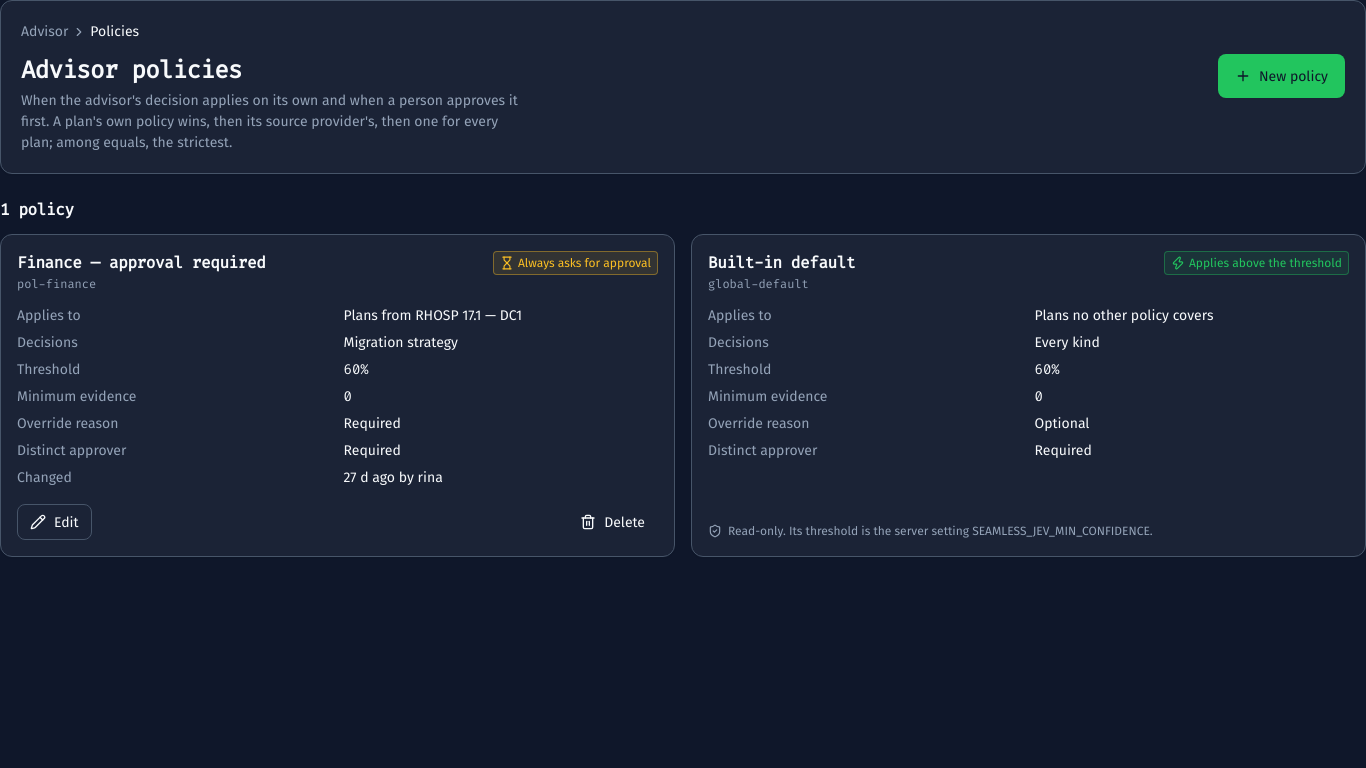
Test: Advisor policies page (SDD §14.6, §16, ADV-04) › names the field of each number it refuses: the summary lists them together
The image size is (1366, 768).
Expected: the heading "1 policy" is shown, [0,199,74,220]
Click the button "New policy": (1281, 76) [1218,54,1345,98]
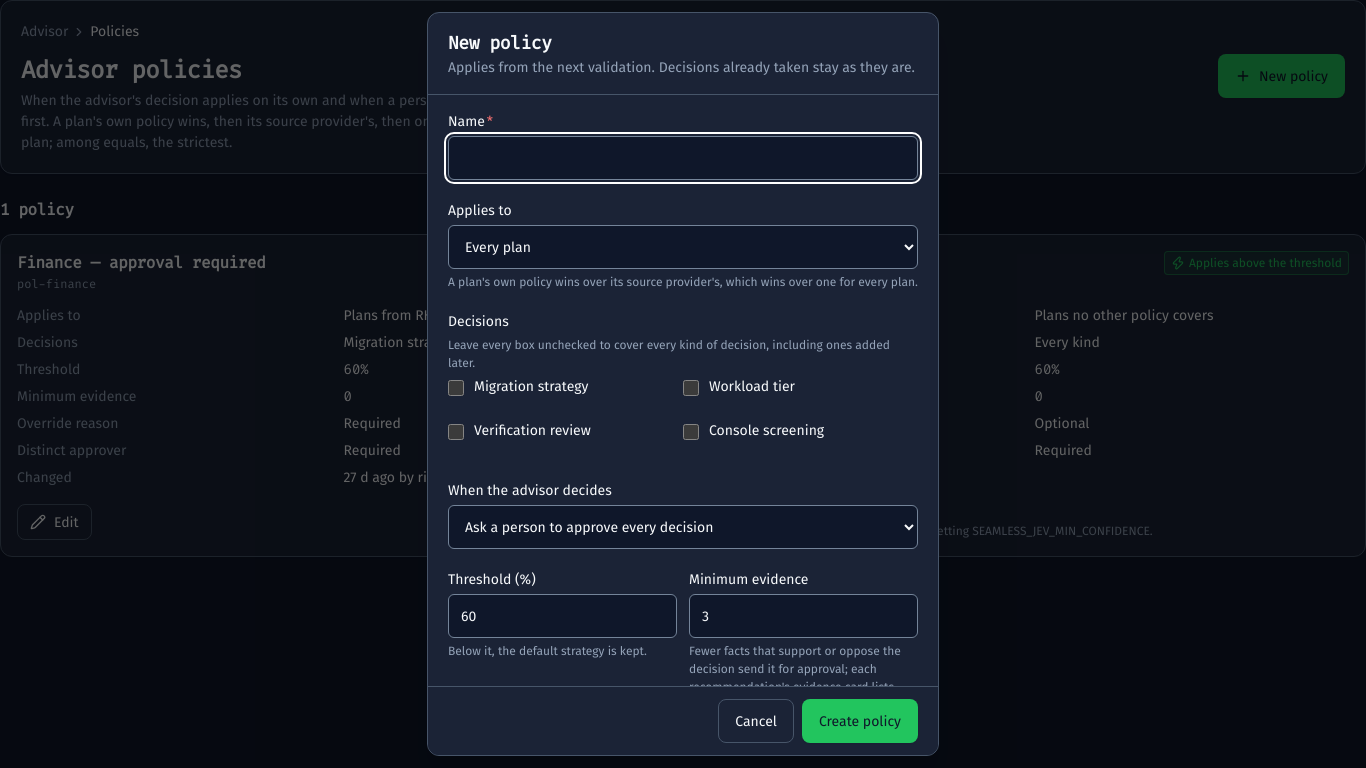
In the field labelled "Name*": (683, 158) [448,136,918,180], type "Numbers"
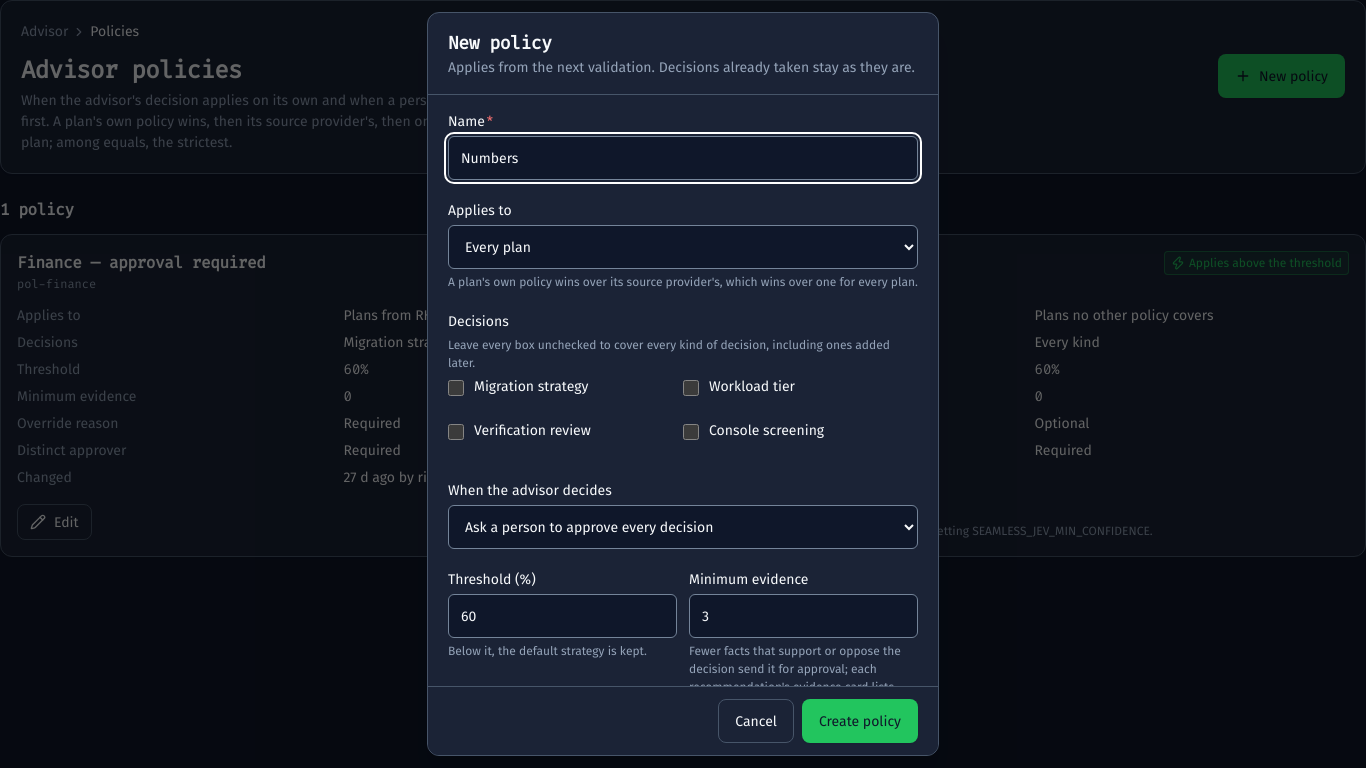
Replace the text in the number field labelled "Threshold (%)" with "101": (562, 616) [448,594,677,638]
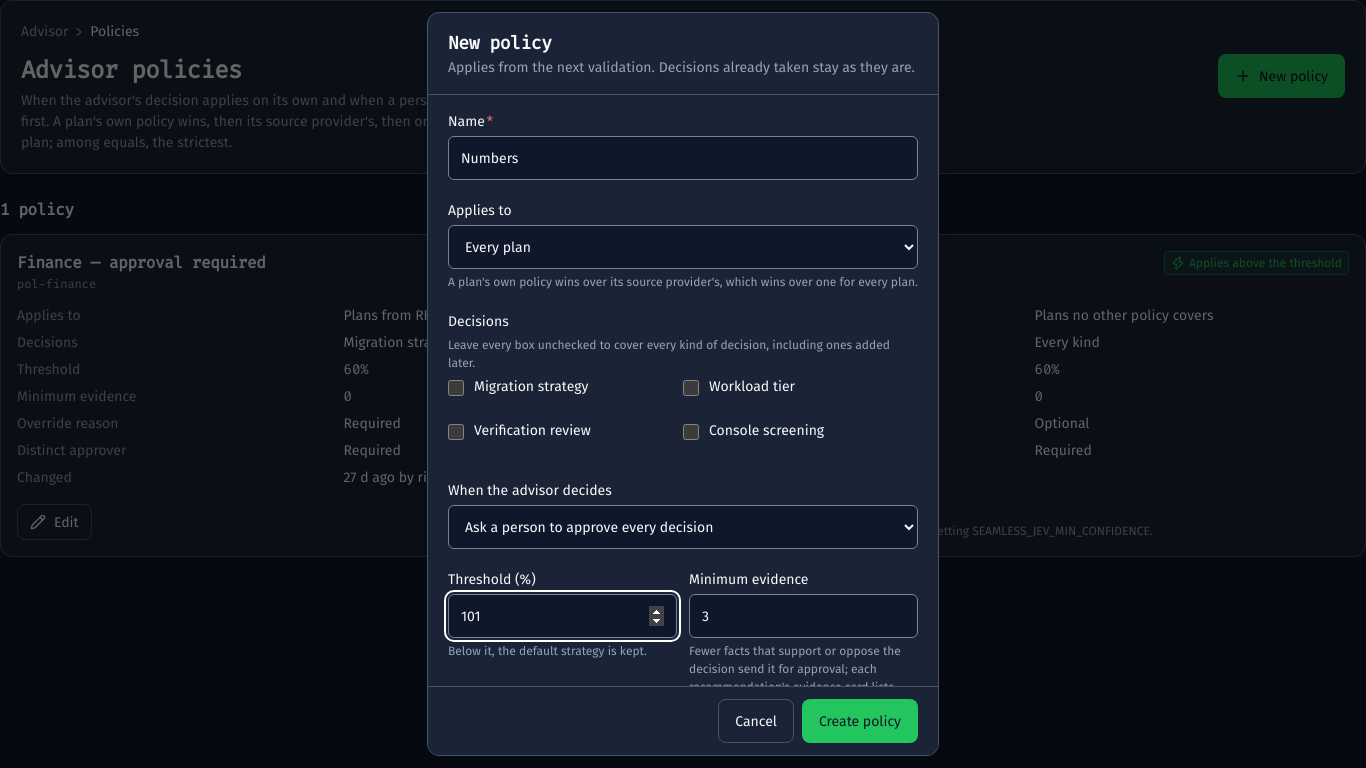
Replace the text in the number field labelled "Minimum evidence" with "1.5": (804, 616) [689,594,918,638]
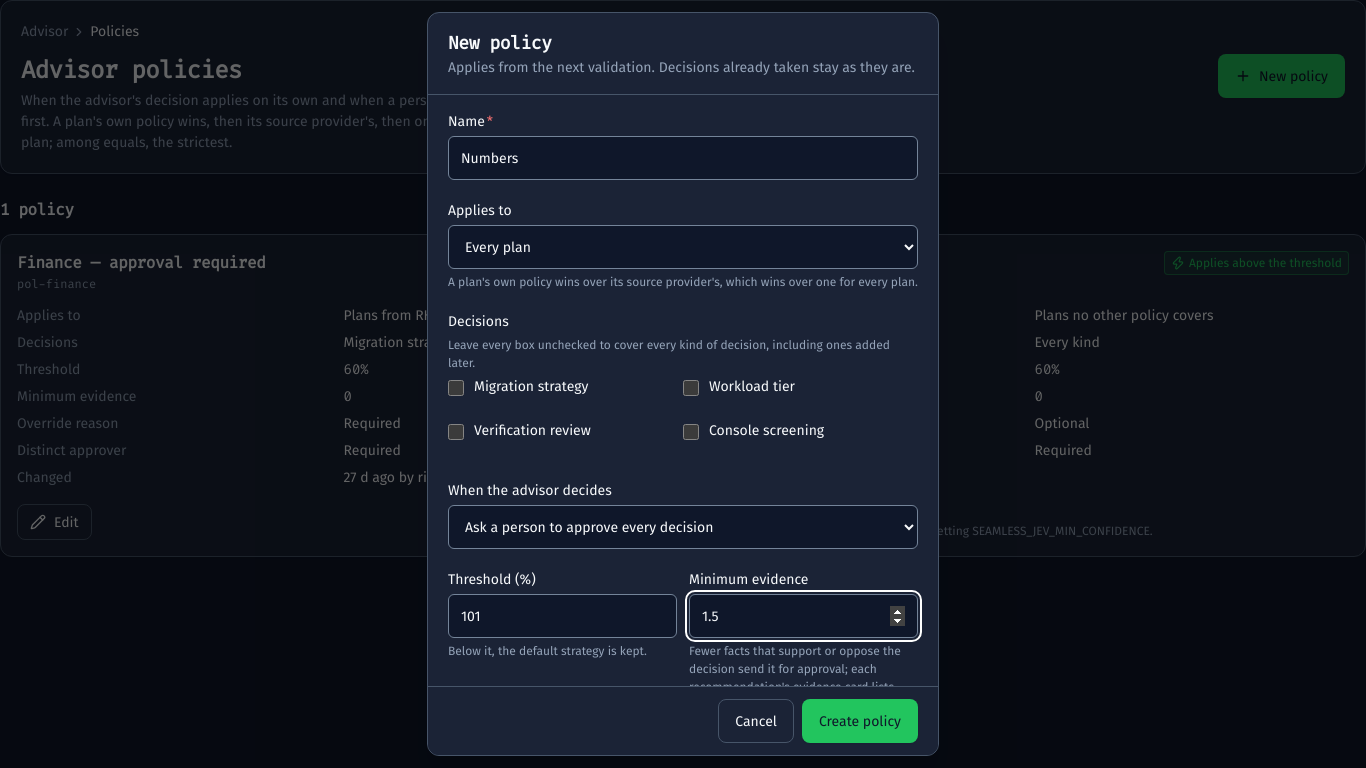
Click the button "Create policy": (860, 721) [802,699,918,743]
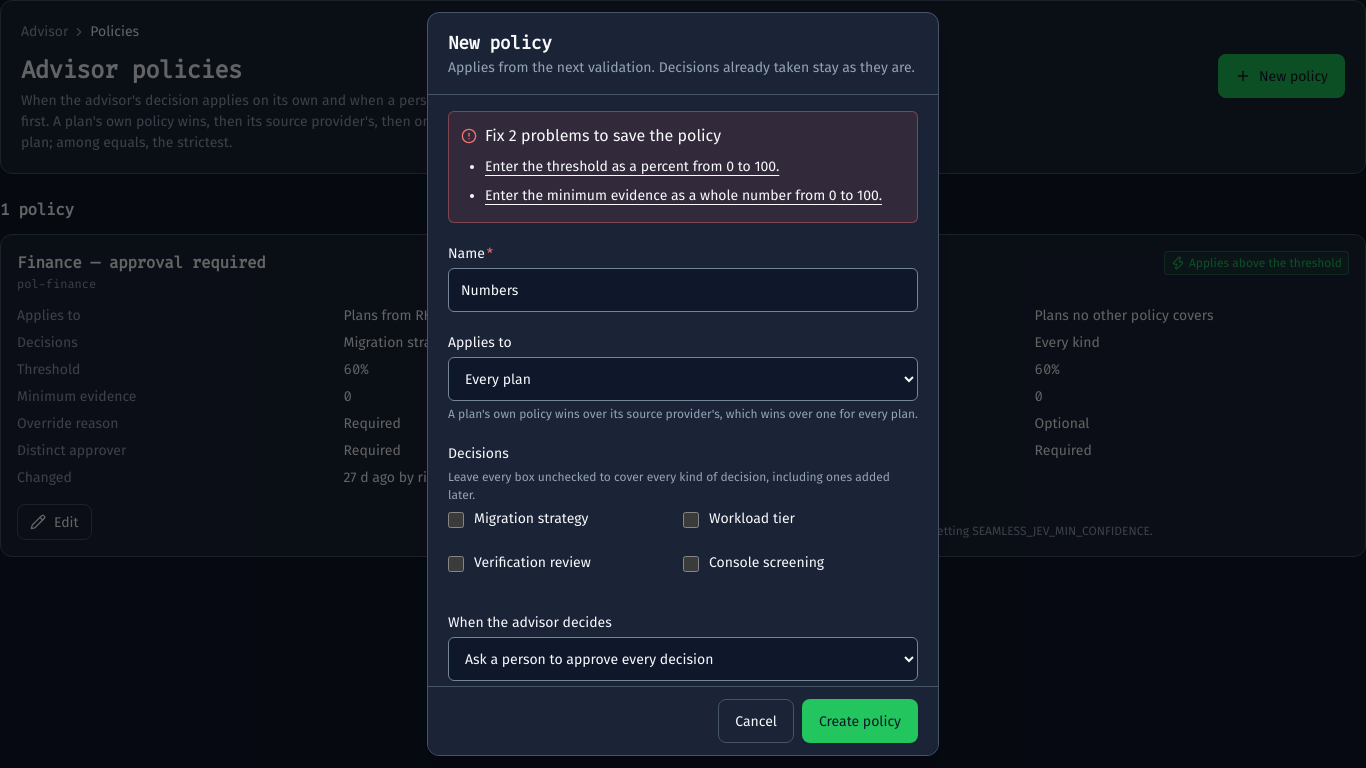
Result: the links read "Enter the threshold as a percent from 0 to 100.", "Enter the minimum evidence as a whole number from 0 to 100.", in this order at [485,158,779,175]; [485,187,882,204]
